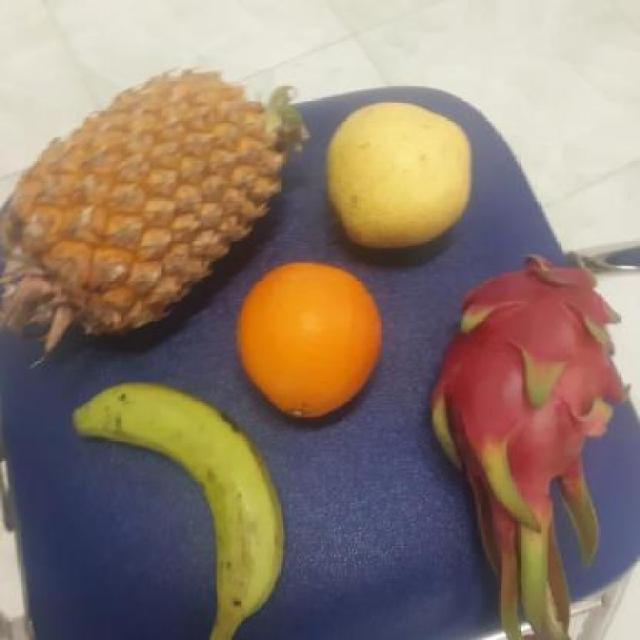banana: (86, 388, 297, 628)
dragon fruit: (431, 260, 629, 522)
oren: (235, 263, 387, 422)
pear: (324, 96, 476, 247)
pineapple: (10, 74, 312, 348)
